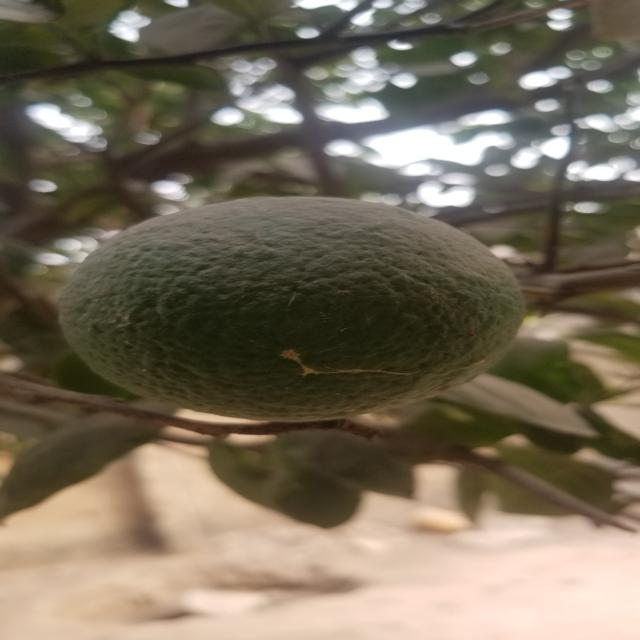Unripe: (69, 194, 512, 418)
